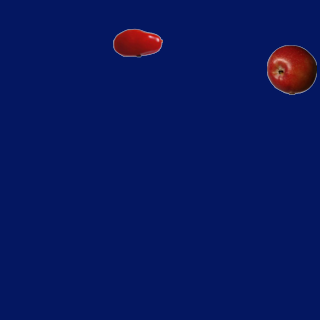Apple Braeburn: (266, 44, 316, 94)
Tomato 2: (112, 17, 162, 67)
